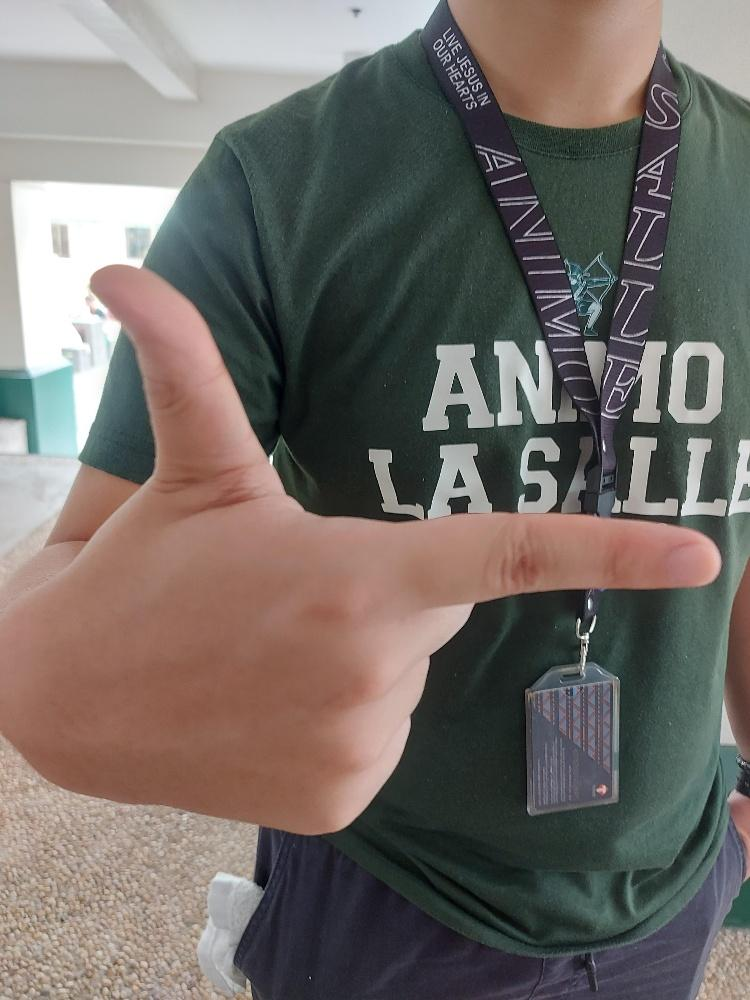g: (83, 258, 721, 838)
